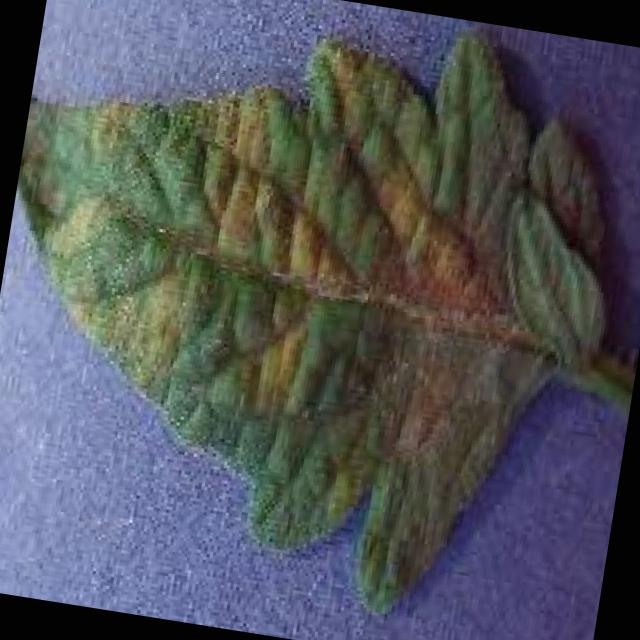leaf mold: (18, 19, 637, 617)
